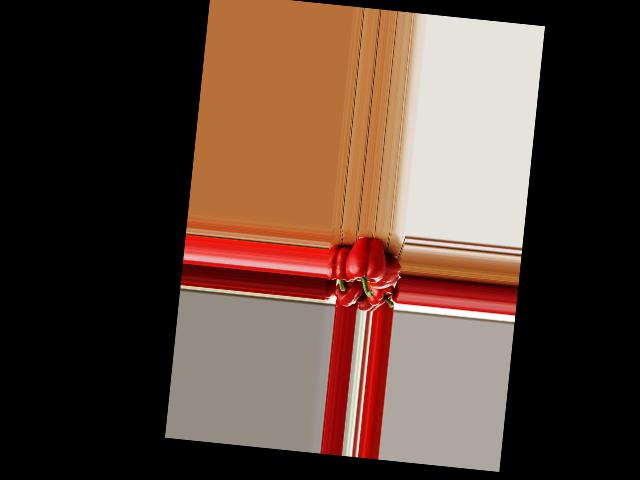bell_pepper: (365, 281, 397, 308)
